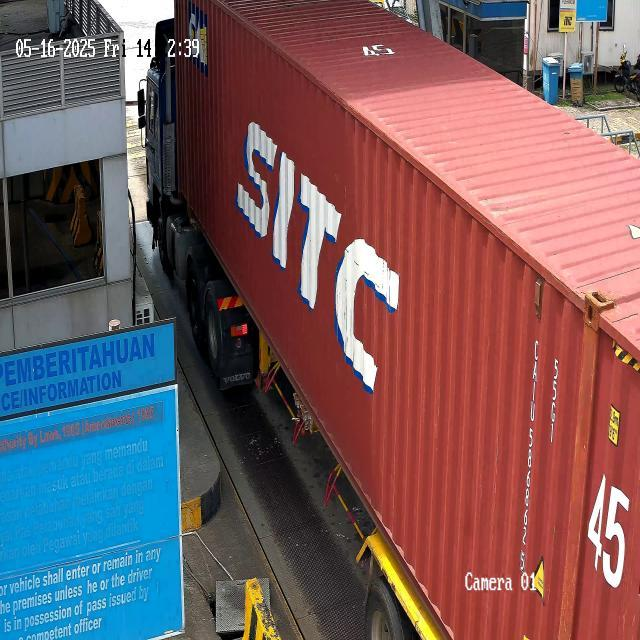ISO: (548, 342, 566, 446)
container_number: (512, 335, 542, 578)
